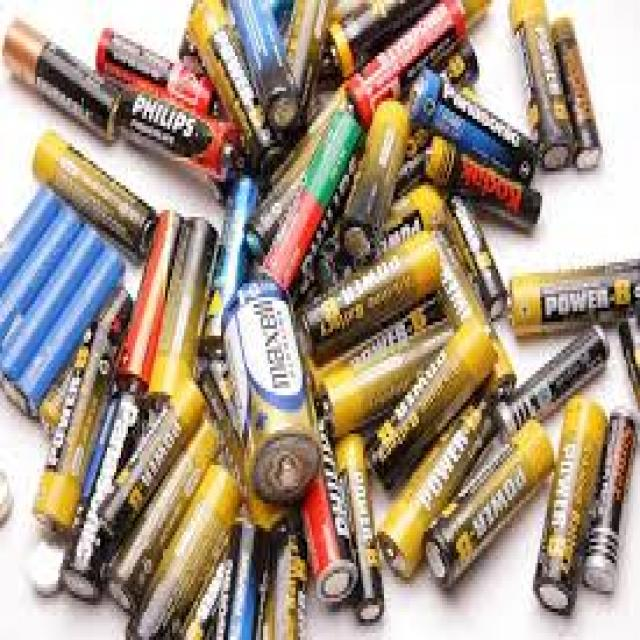non-organic waste: (0, 183, 125, 420), (221, 273, 321, 508), (424, 414, 554, 590), (300, 225, 439, 385), (255, 107, 368, 301), (344, 0, 470, 135), (30, 131, 162, 258), (409, 62, 534, 194), (533, 399, 607, 613), (494, 318, 613, 450), (0, 21, 123, 146), (421, 136, 546, 241), (113, 88, 245, 184), (508, 0, 573, 177), (99, 29, 222, 120), (504, 258, 640, 340), (582, 413, 639, 598), (549, 19, 604, 172)
